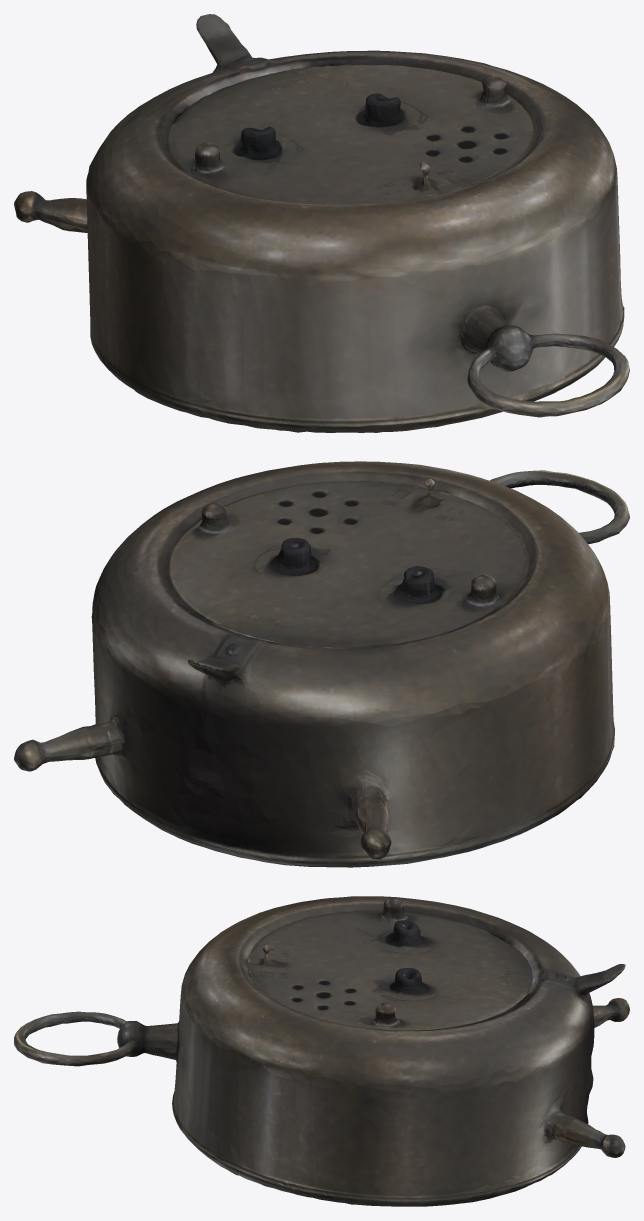
File: alarm.glb
3 renders of one model, top to bottom at view 1: azimuth 30°, elevation 25°; view 2: azimuth 150°, elevation 25°; view 3: azimuth 270°, elevation 25°, orthographic. The views are drawn at different scales.
Visible parts, largest first — view 1: geometry_0; view 2: geometry_0; view 3: geometry_0.
Boxes of the visible parts, x1,y1,x2,y2 form: geometry_0: (14,14,629,432); geometry_0: (14,461,629,867); geometry_0: (14,896,629,1206).
Bounding box in the file's own units: 0.6745 × 0.3329 × 1.
Materials: 1 (1 with a texture image).
